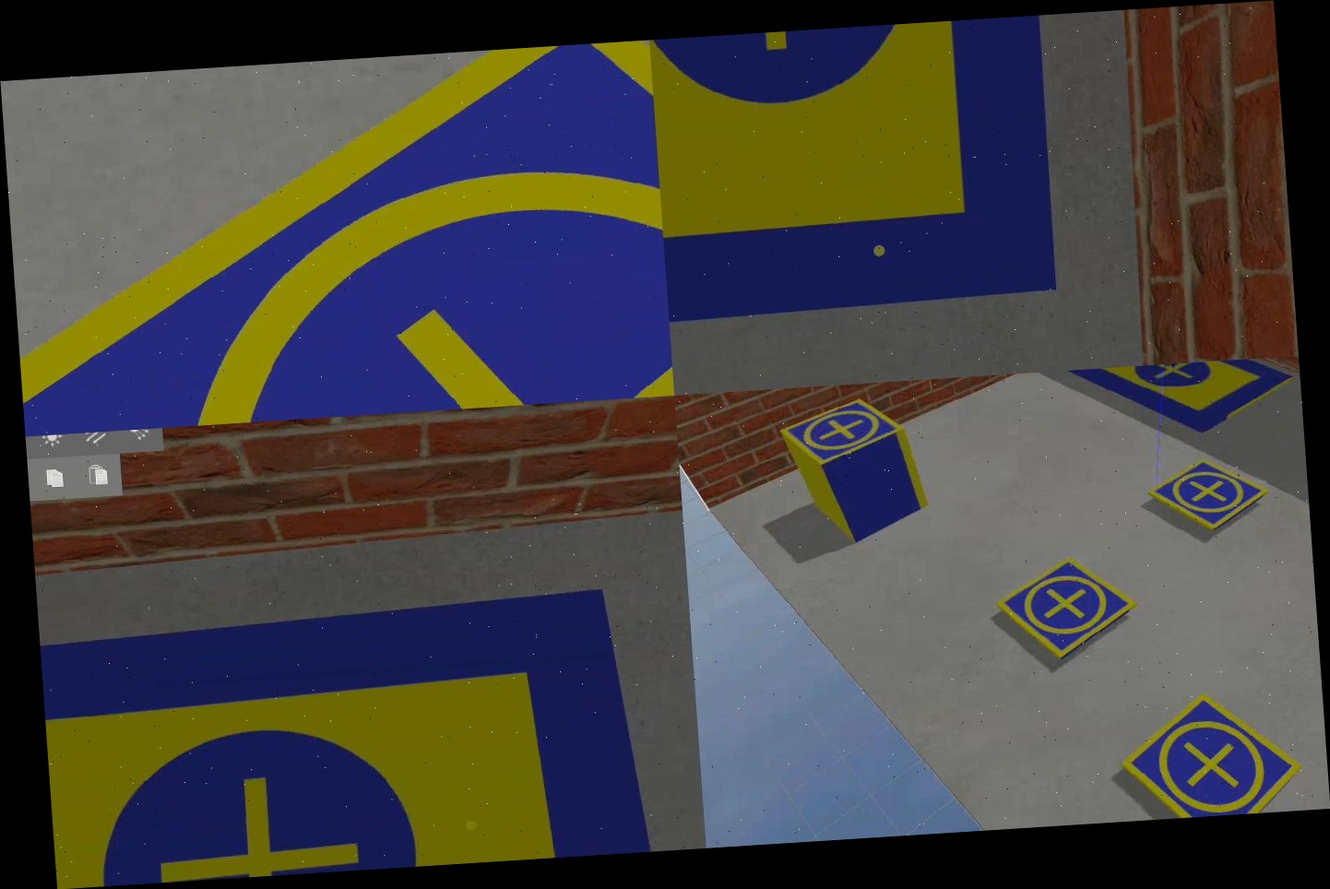large_base: (39, 587, 682, 888), (649, 15, 1064, 327), (1059, 356, 1300, 444)
small_base: (0, 40, 674, 436), (1114, 689, 1307, 821), (995, 552, 1143, 663), (778, 395, 910, 473), (1144, 456, 1271, 536)
